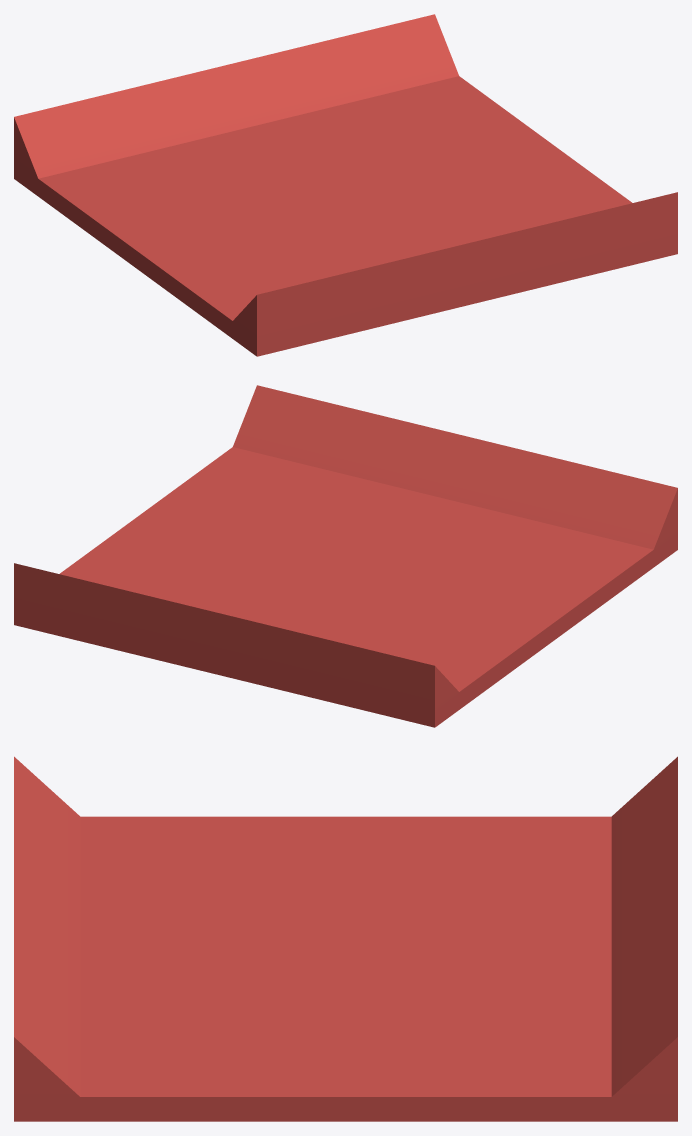
Rendered from roofHighFlat.fbx.
3 renders of one model, top to bottom at view 1: azimuth 30°, elevation 25°; view 2: azimuth 150°, elevation 25°; view 3: azimuth 270°, elevation 25°, orthographic. The views are drawn at different scales.
Parts seen in each view (by area): view 1: roofHighFlat; view 2: roofHighFlat; view 3: roofHighFlat.
Boxes of the visible parts, <box> form: roofHighFlat: <box>14,14,677,356</box>; roofHighFlat: <box>14,385,677,727</box>; roofHighFlat: <box>14,756,677,1121</box>.
Size of the model in its own units: 1 by 1 by 0.1407.
